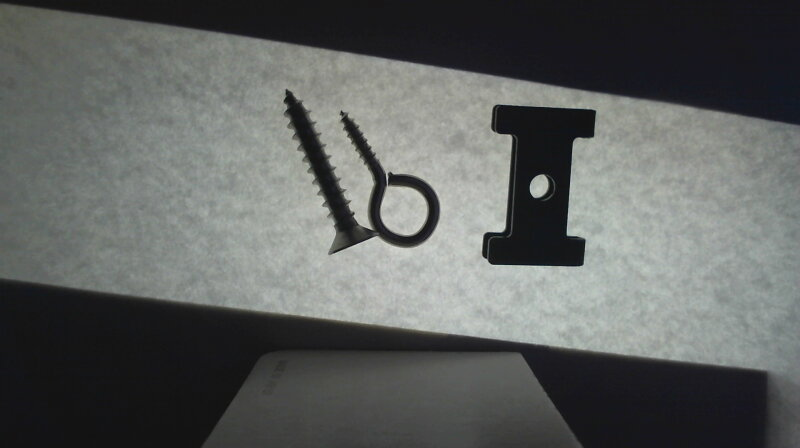O001: (339, 109, 440, 247)
O002: (481, 101, 600, 271)
S001: (281, 86, 376, 256)
